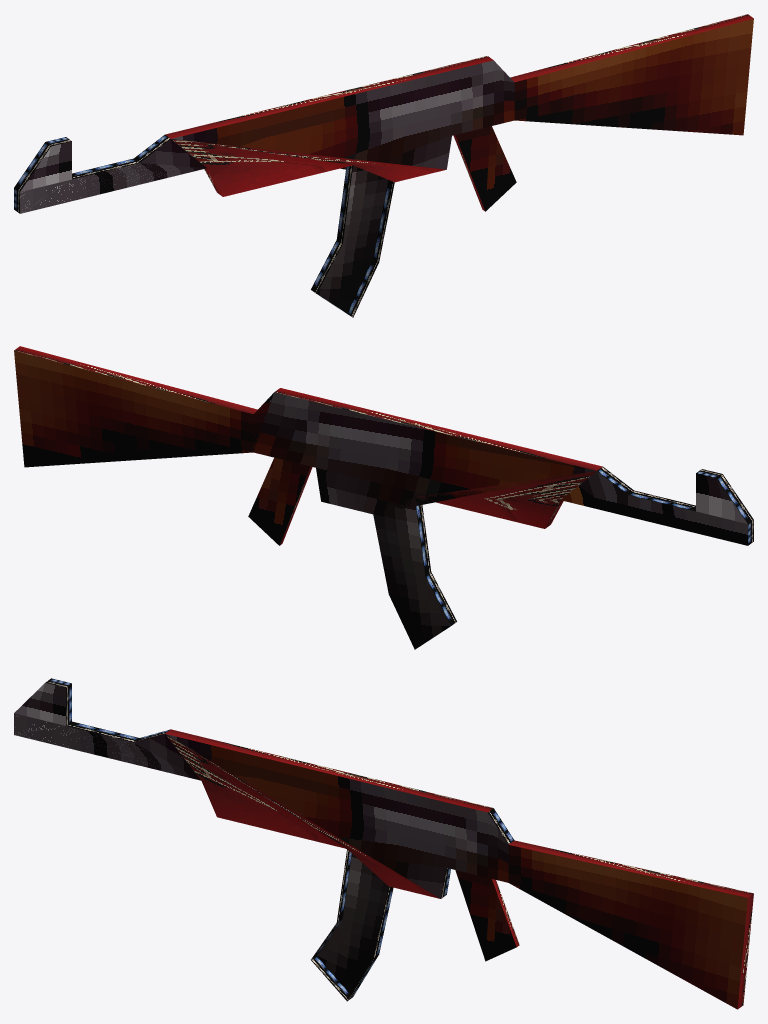
3 renders of one model, top to bottom at view 1: azimuth 30°, elevation 25°; view 2: azimuth 150°, elevation 25°; view 3: azimuth 330°, elevation 25°, orthographic.
Visible parts, largest first — view 1: prim120-Line45; view 2: prim120-Line45; view 3: prim120-Line45.
Part boxes in pixels (box(x1,y1,x2,y2)): prim120-Line45: box(14, 14, 753, 317); prim120-Line45: box(14, 346, 753, 649); prim120-Line45: box(14, 678, 753, 1009).
Bounding box in the file's own units: 141 × 45 × 2.
Materials: 3 (3 with a texture image).
